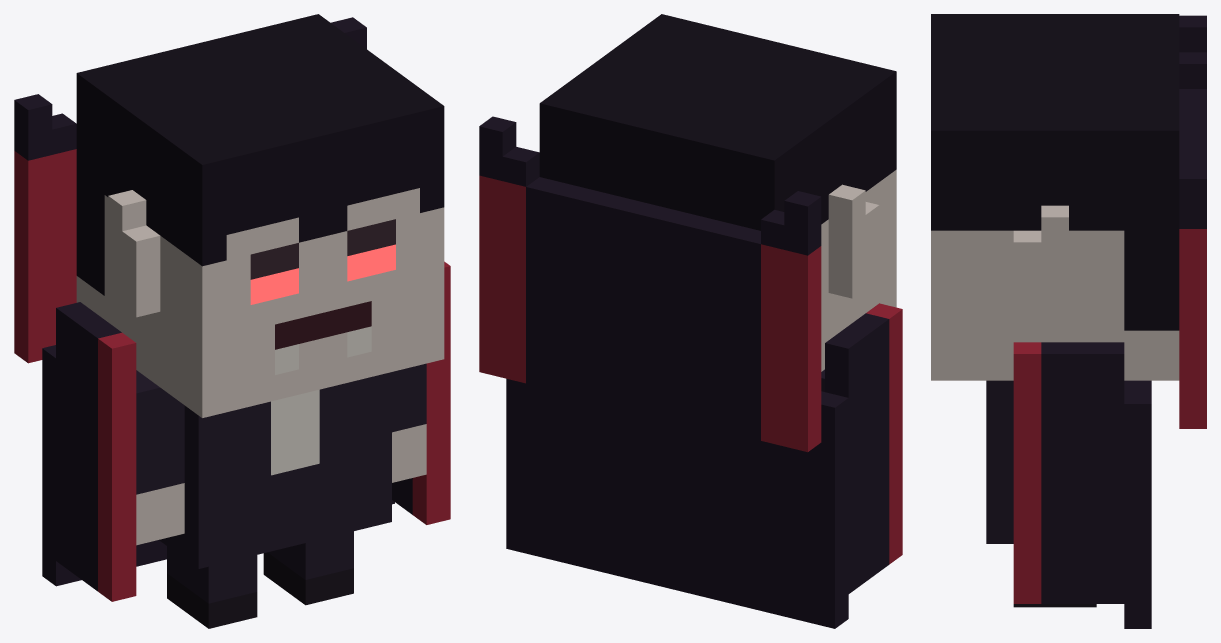
Rendered from dracula.glb.
3 views of the same model, side by side, from view 1: azimuth 30°, elevation 25°; view 2: azimuth 150°, elevation 25°; view 3: azimuth 270°, elevation 25° (orthographic). The views are drawn at different scales.
Parts seen in each view (by area): view 1: Head, Body, ArmR, LegR, LegL, ArmL; view 2: Body, Head; view 3: Head, Body.
Boxes of the visible parts, x1=… form: Head: x1=76, y1=14, x2=444, y2=417; Body: x1=14, y1=17, x2=450, y2=601; ArmR: x1=136, y1=370, x2=184, y2=545; LegR: x1=167, y1=546, x2=257, y2=628; LegL: x1=263, y1=531, x2=353, y2=605; ArmL: x1=392, y1=363, x2=426, y2=482; Body: x1=479, y1=116, x2=902, y2=628; Head: x1=539, y1=14, x2=896, y2=371; Head: x1=931, y1=14, x2=1179, y2=380; Body: x1=986, y1=15, x2=1206, y2=628.
Size of the model in its own units: 1.4 by 2 by 1.
